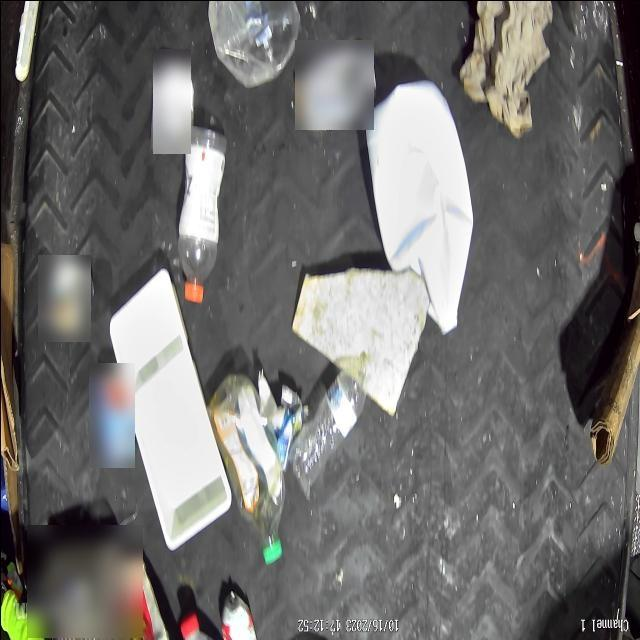milk_jug: (364, 83, 472, 335)
plastic_bottle: (206, 361, 286, 568), (288, 352, 376, 498), (168, 123, 228, 305)
